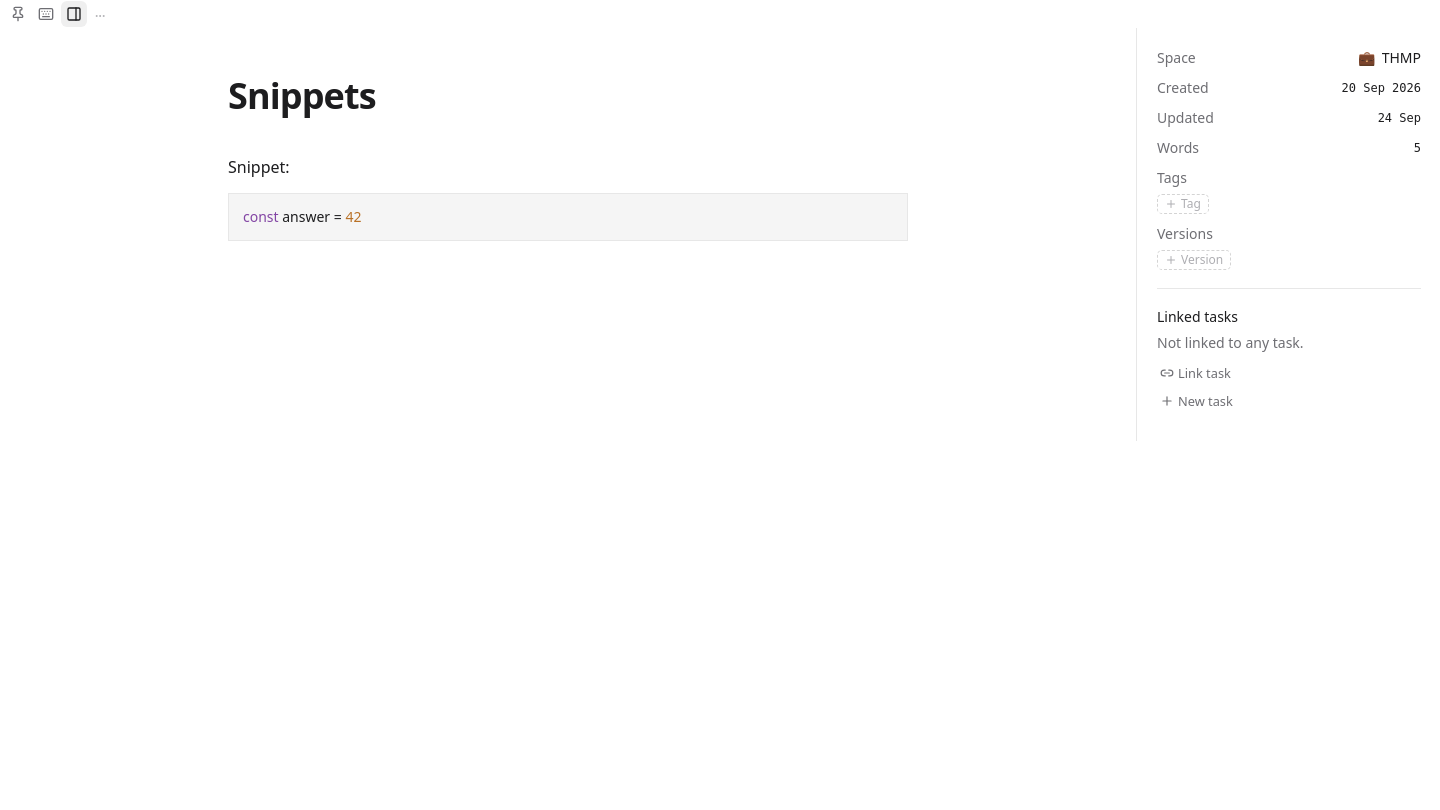
Scenario: NoteEditor (Phase 2) › lists the editor shortcuts in the cheat sheet
Expected: the text box named "Note title" is shown, x1=228 y1=76 x2=908 y2=120
Click the button named "Keyboard shortcuts".
click(46, 14)  # box x1=32 y1=0 x2=60 y2=28
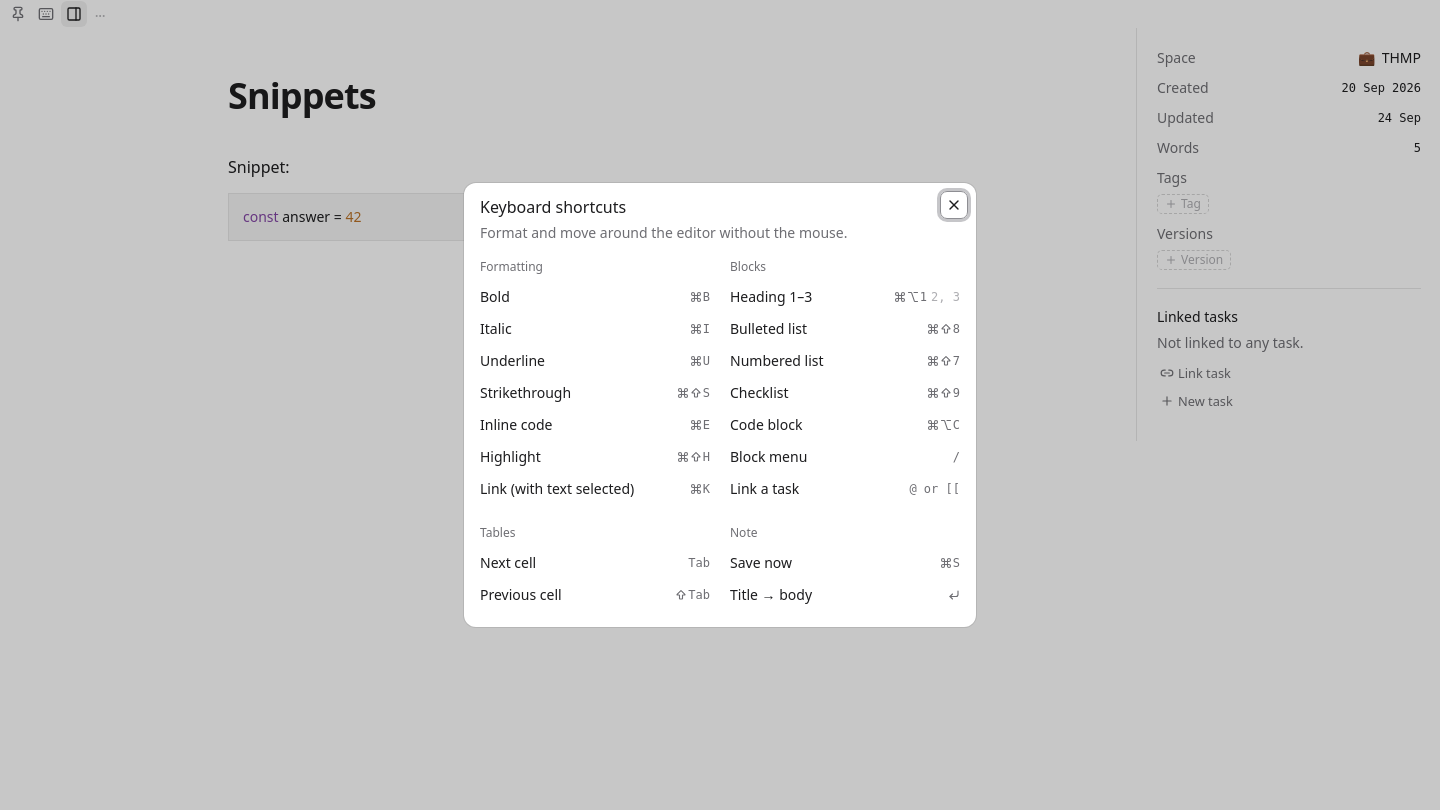
Now the text "Save now" is shown, box x1=730 y1=553 x2=792 y2=572
Now the text "Link (with text selected)" is shown, box x1=480 y1=479 x2=634 y2=498
